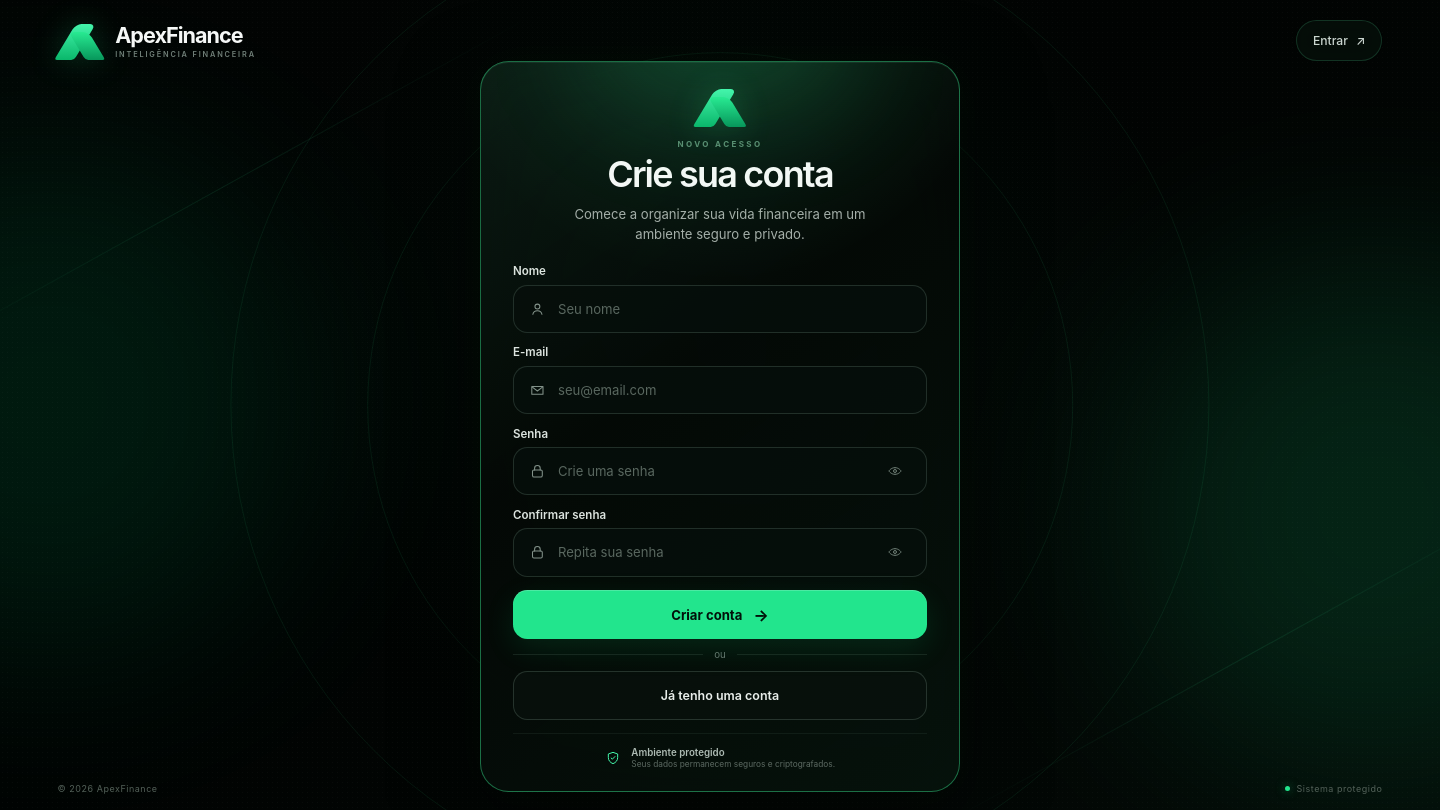
Autenticação do ApexFinance › redireciona para o Dashboard depois do cadastro
This screenshot has width=1440, height=810.
In the field labelled "Nome": (728, 309) x1=546 y1=301 x2=911 y2=317, type "João Xavier"
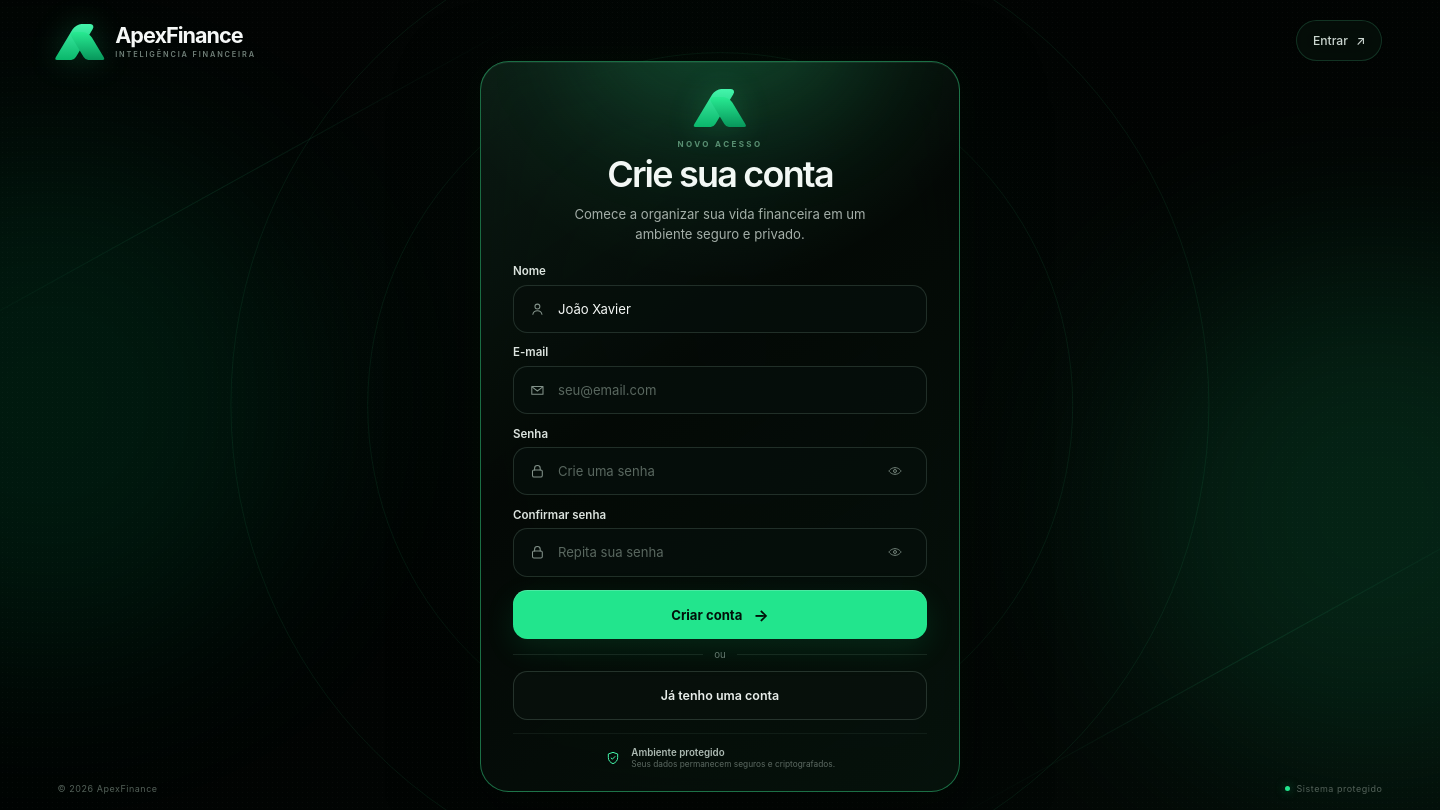
In the field labelled "E-mail": (728, 390) x1=546 y1=382 x2=911 y2=398, type "joao@example.com"
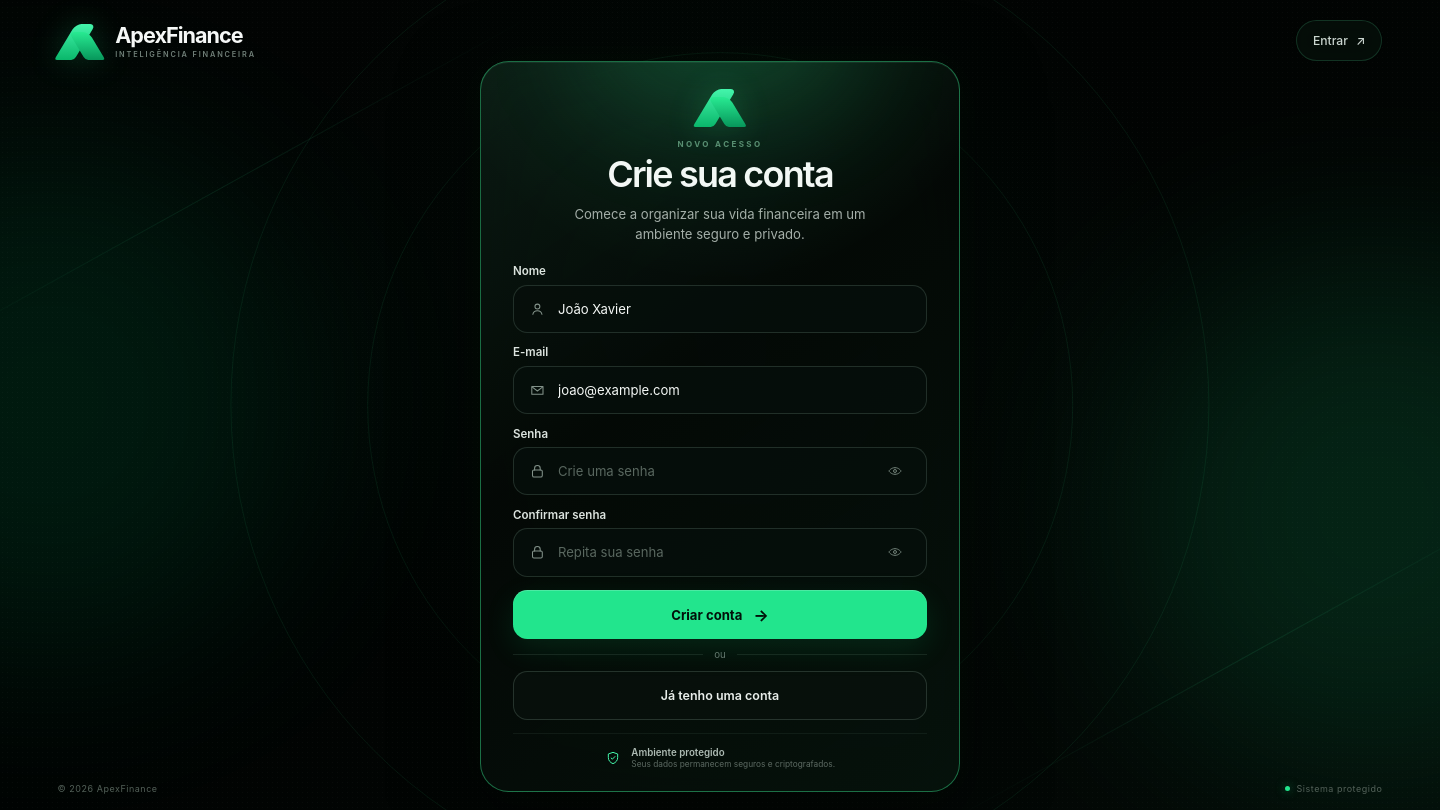
In the password field labelled "Senha": (712, 471) x1=546 y1=463 x2=879 y2=479, type "senha123"
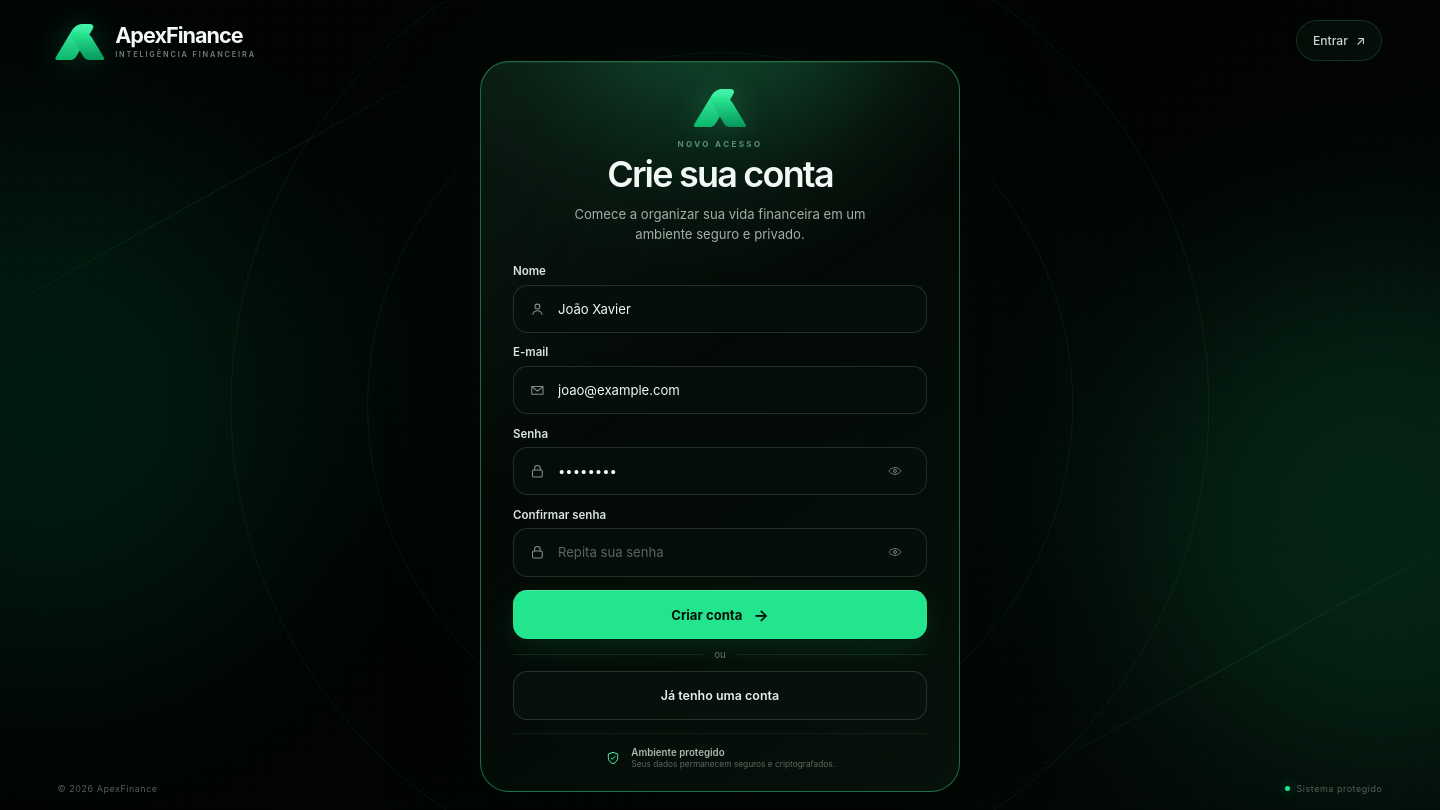
In the password field labelled "Confirmar senha": (712, 552) x1=546 y1=544 x2=879 y2=560, type "senha123"
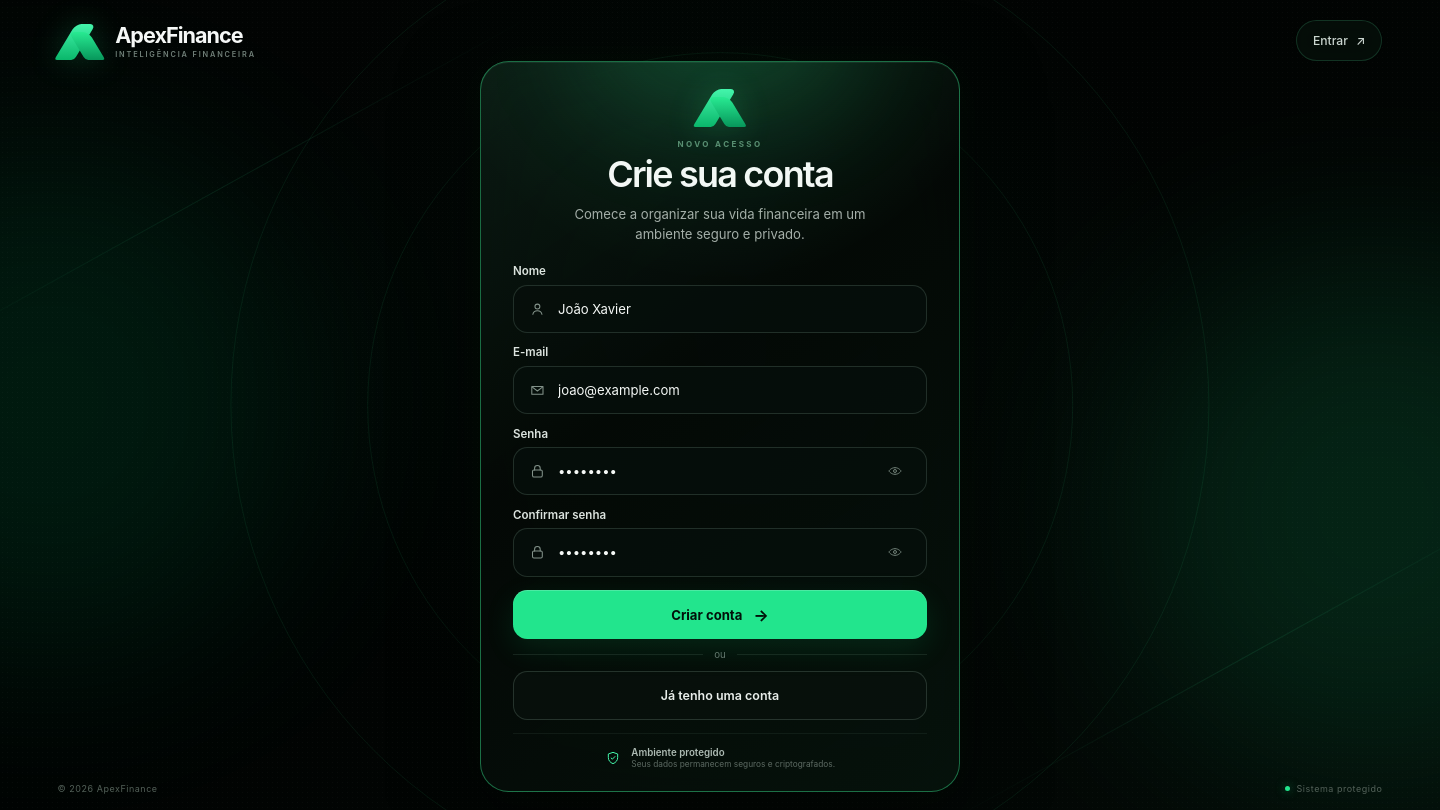
Click the button "Criar conta →": (720, 615) x1=513 y1=590 x2=927 y2=639
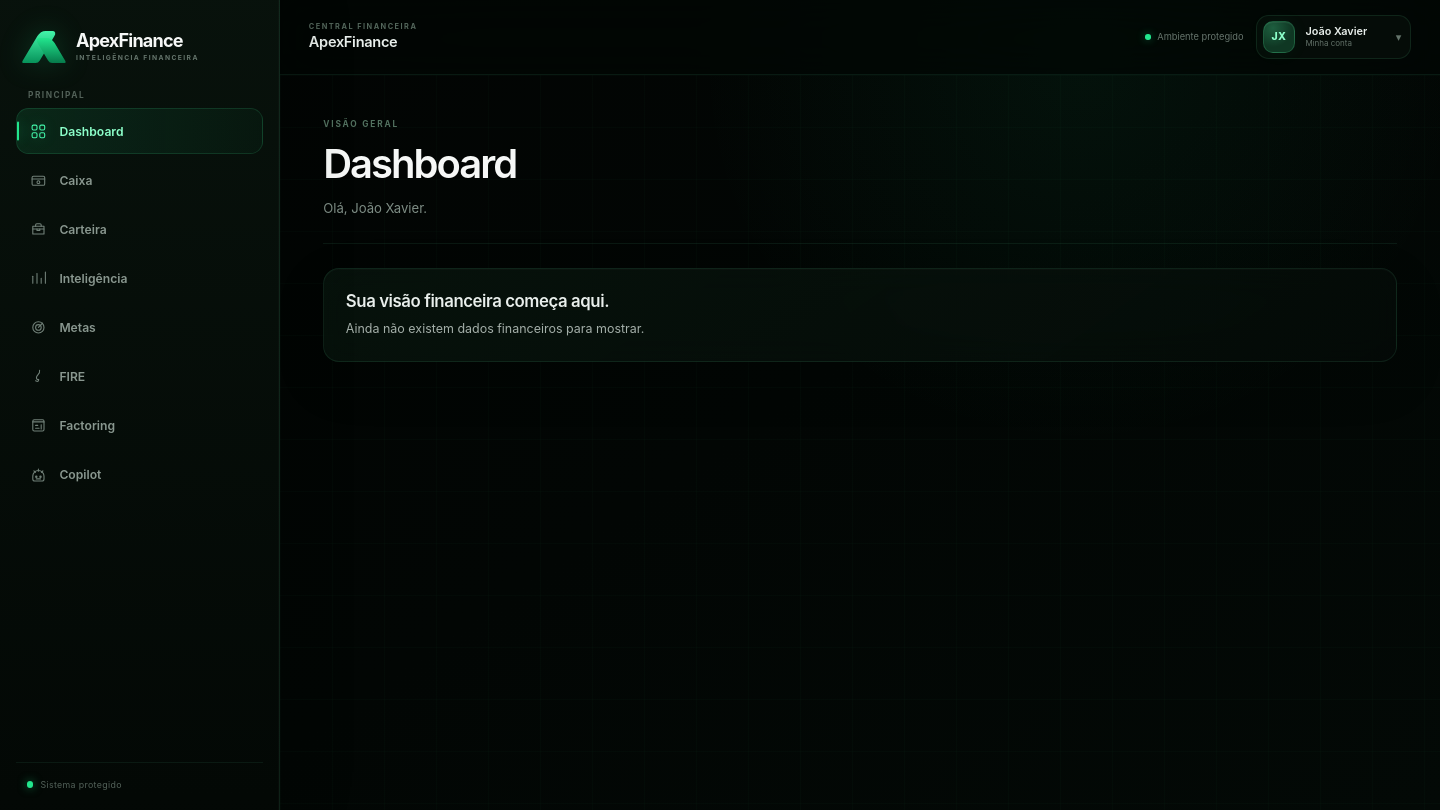
Expected: the heading "Dashboard" is shown, x1=323 y1=139 x2=516 y2=188
